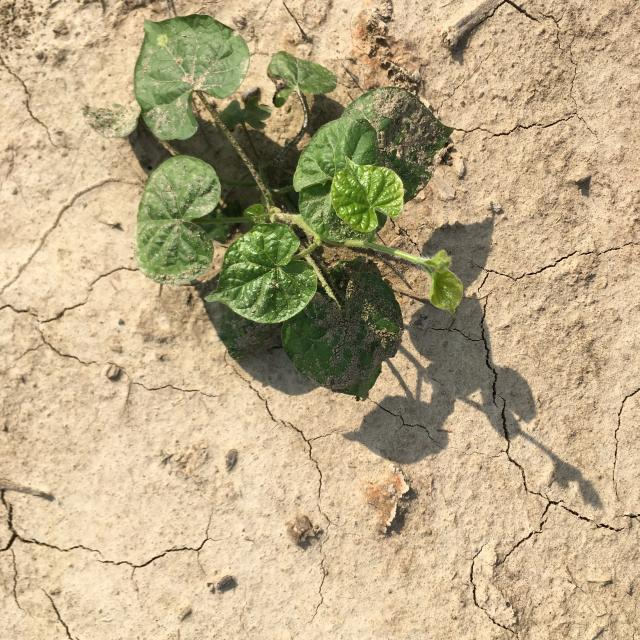MorningGlory: (83, 13, 464, 399)
